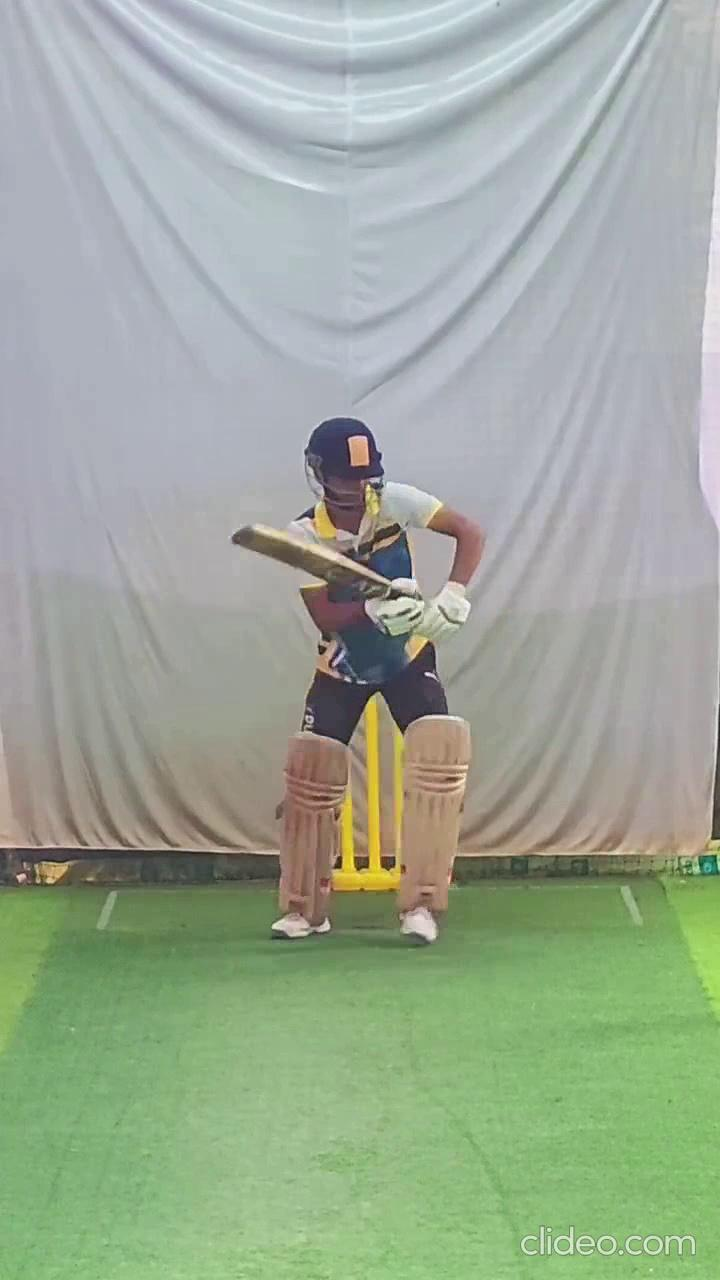bat: (228, 507, 393, 615)
